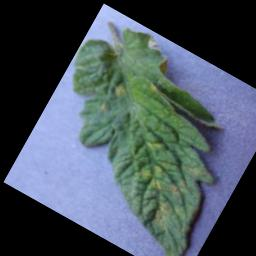Leaf_Mold: (135, 159, 171, 195), (146, 81, 162, 96)
